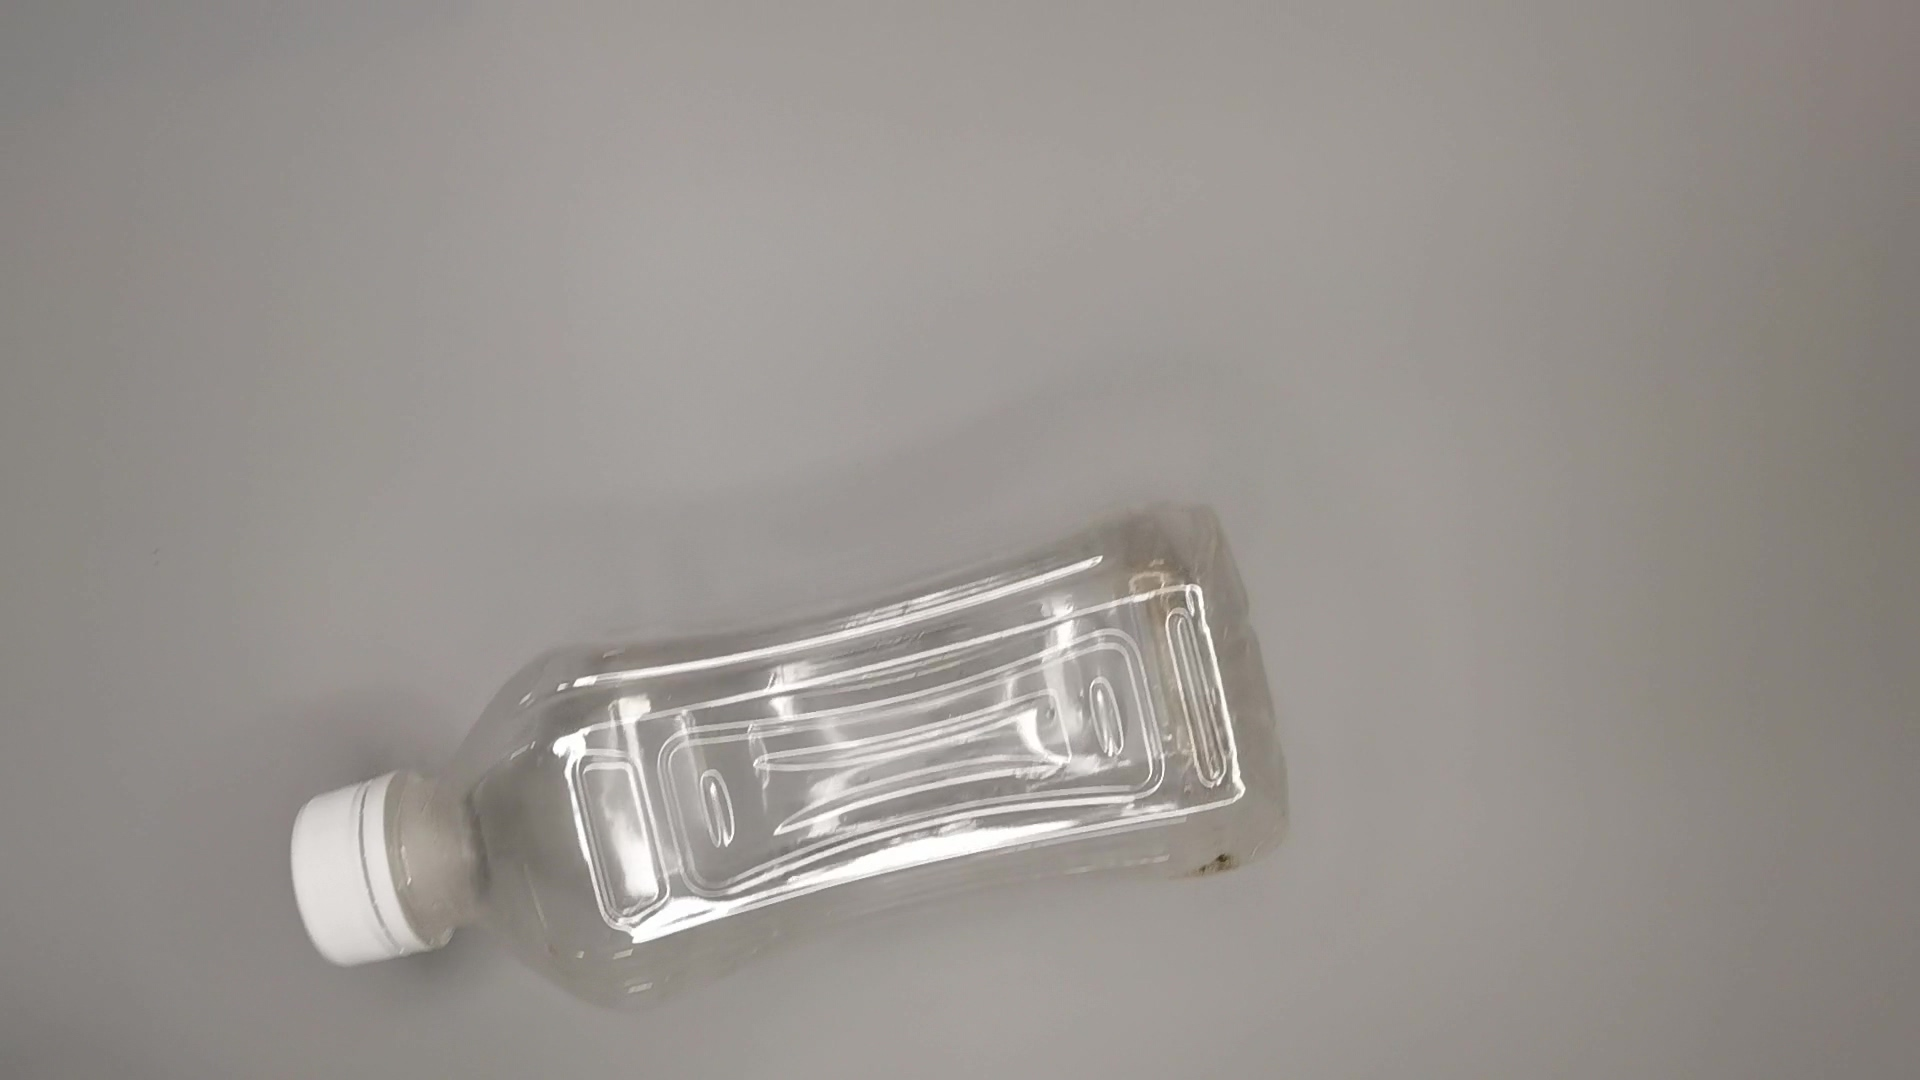bottle: (285, 497, 1309, 1029)
